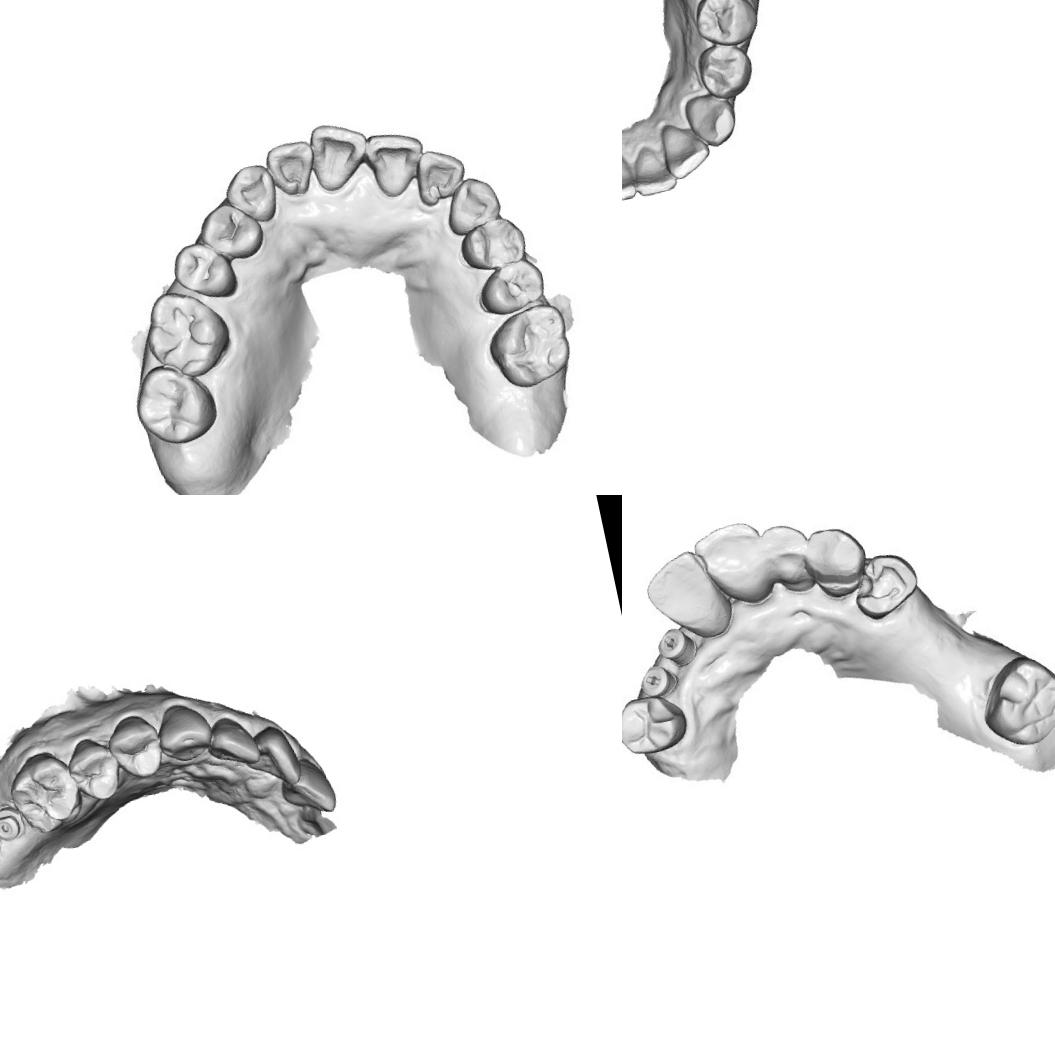canine: (800, 517, 872, 595), (220, 158, 287, 234), (150, 697, 219, 767), (436, 172, 508, 238), (686, 88, 744, 146)
implant: (0, 801, 27, 845)
implant_minus: (636, 662, 680, 698), (654, 625, 696, 662)
incisor: (686, 517, 776, 605), (636, 546, 719, 634), (301, 115, 377, 198), (359, 126, 432, 206), (238, 720, 304, 794), (754, 517, 818, 593), (404, 144, 474, 212), (274, 753, 340, 824), (201, 710, 263, 774), (658, 115, 716, 182), (264, 140, 314, 200), (630, 141, 673, 194), (622, 152, 633, 199)
molar: (482, 294, 580, 396), (141, 282, 238, 384), (973, 645, 1055, 753), (130, 356, 222, 450), (2, 746, 87, 840)
premolar: (161, 234, 243, 306), (622, 687, 693, 760), (452, 213, 531, 278), (477, 255, 549, 324), (102, 710, 168, 784), (196, 196, 263, 268), (62, 732, 126, 807), (693, 34, 757, 100), (694, 0, 749, 43)
